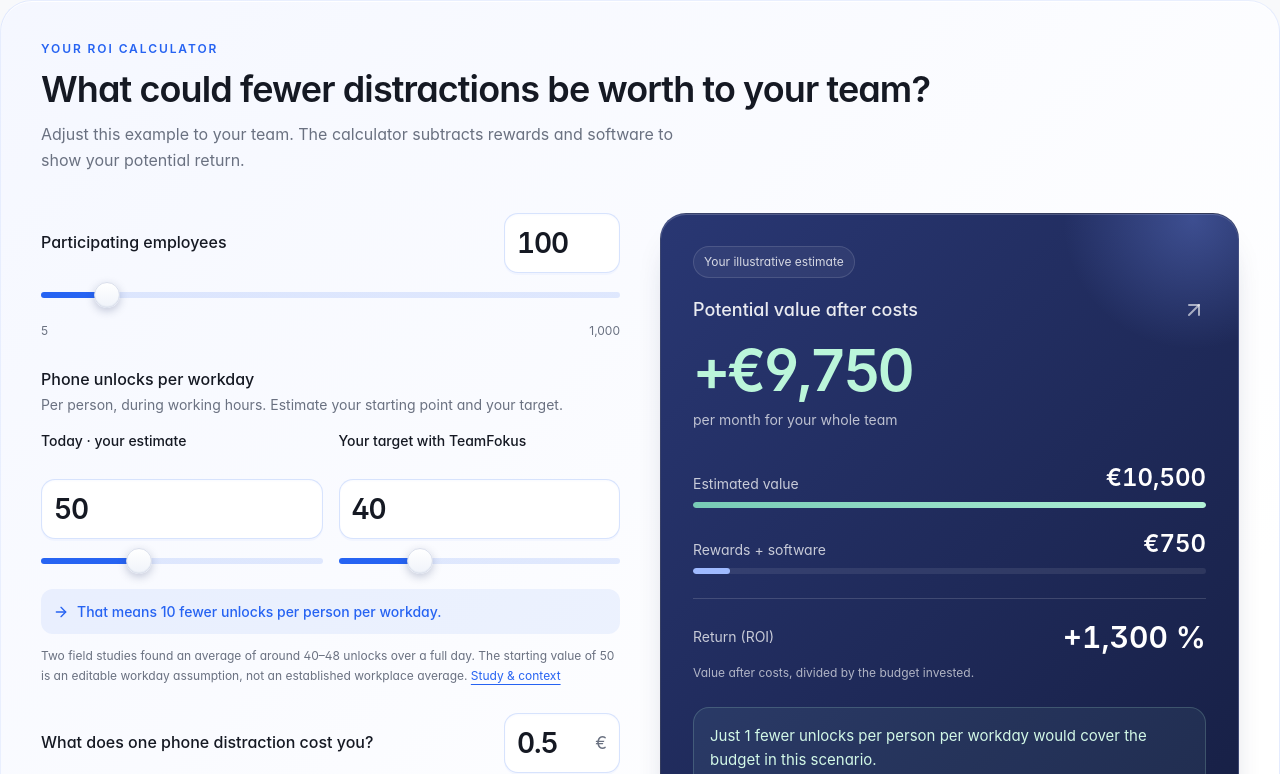
ROI calculator interactions › updates rewards automatically when the target changes
This screenshot has width=1280, height=774.
Step 1. Set the slider named "Your target with TeamFokus" to "8" → (361, 561), box [338,539,620,583]
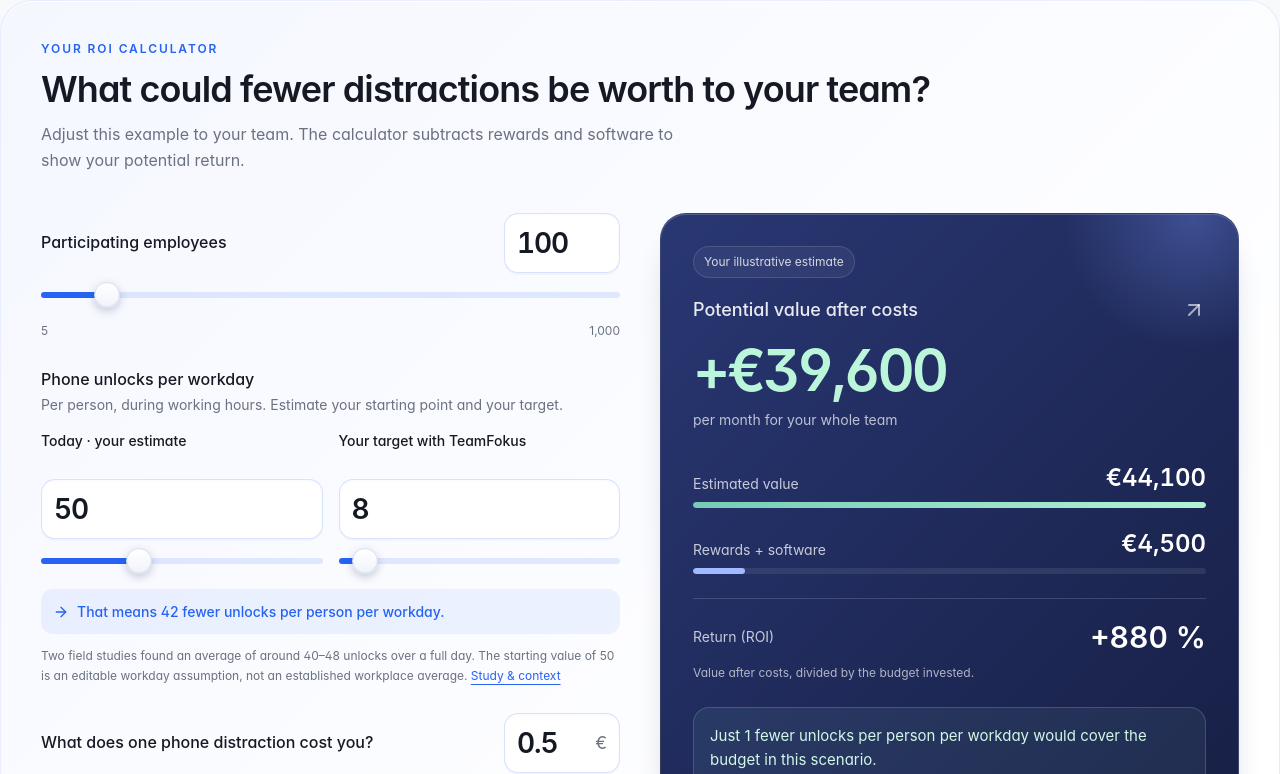
Check: the text with test id "roi-cost" reads "€4,500", box [1121,529,1206,558]
